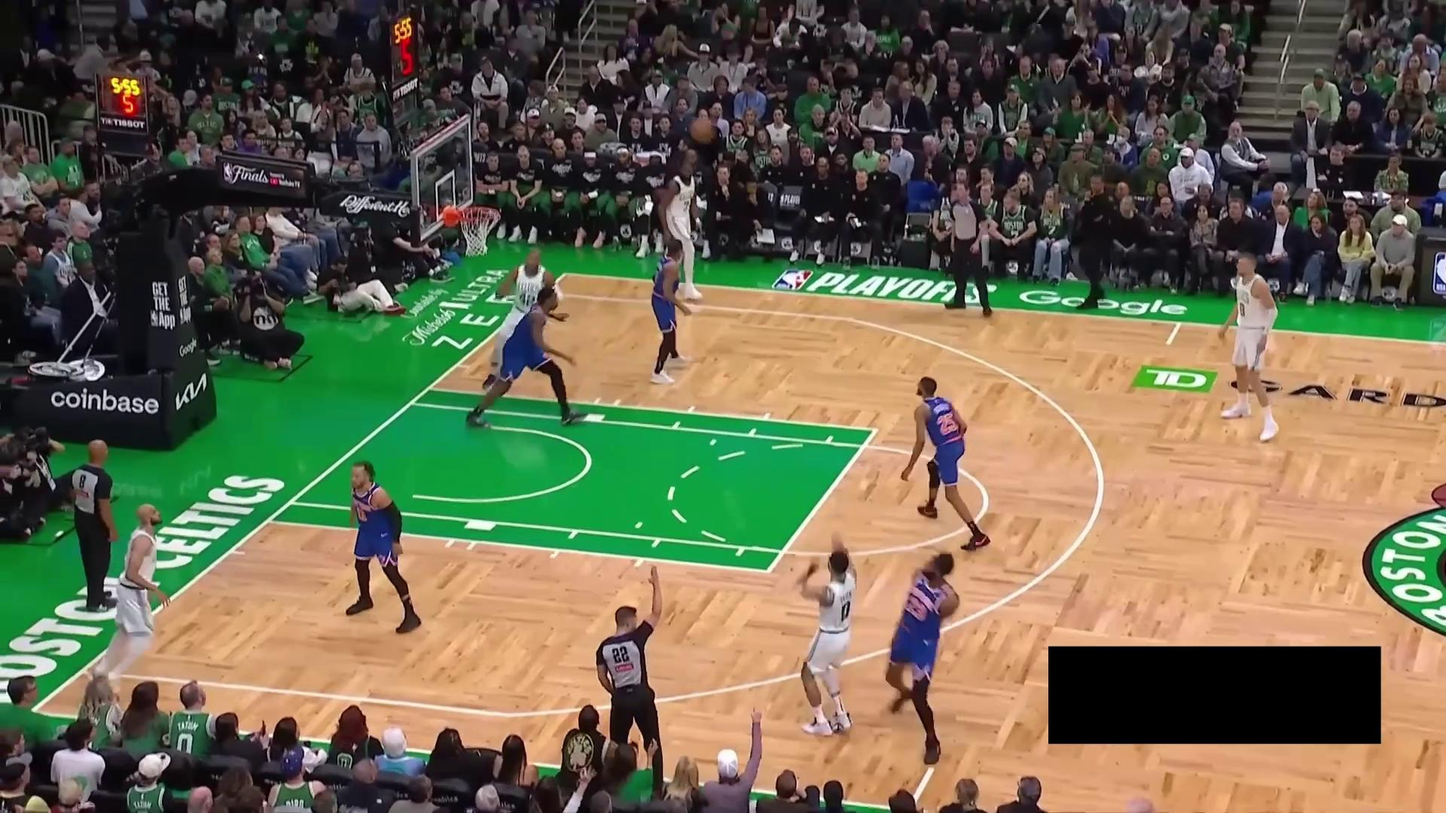ball: (687, 116, 712, 145)
number: (904, 594, 929, 621), (936, 411, 958, 436), (839, 599, 852, 623), (356, 505, 368, 523), (1238, 301, 1246, 317)
player: (880, 543, 967, 764), (463, 284, 591, 429), (900, 373, 996, 550), (85, 501, 168, 699), (793, 533, 863, 737), (343, 460, 422, 635), (475, 247, 568, 390), (1220, 254, 1286, 441), (648, 236, 699, 393), (656, 155, 708, 302)
referee: (594, 559, 675, 792), (66, 440, 126, 615), (946, 179, 1000, 321)
rim: (456, 203, 500, 227)
